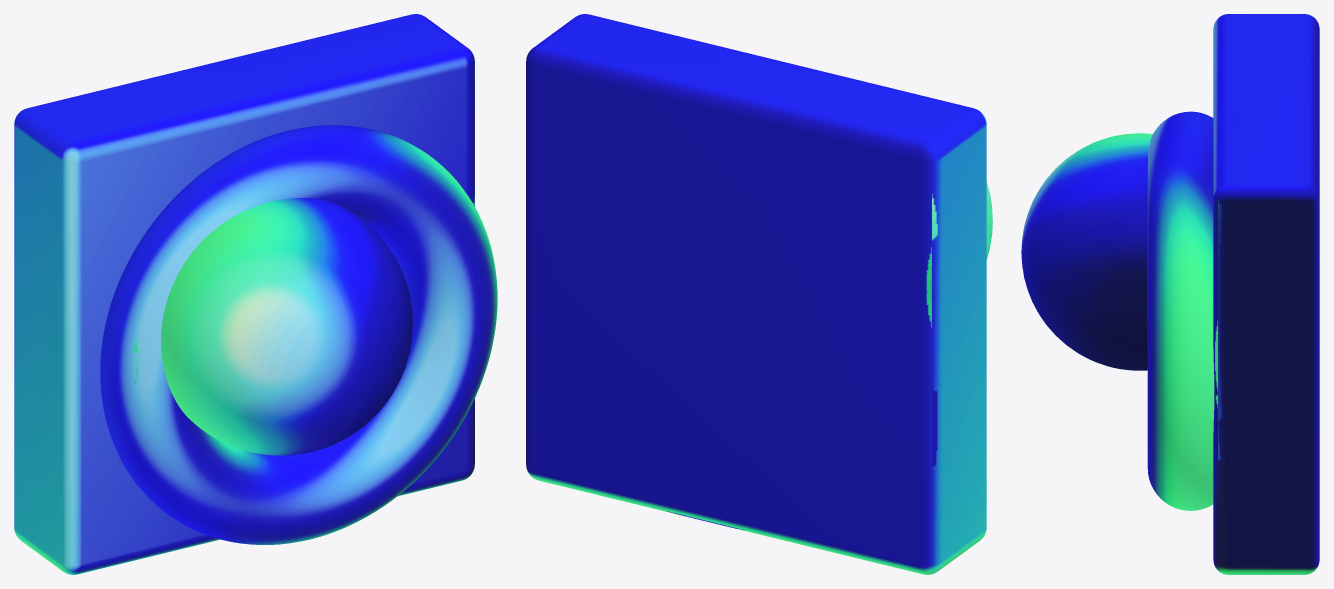
The model's file is tile.glb.
3 renders of one model, left to right at view 1: azimuth 30°, elevation 25°; view 2: azimuth 150°, elevation 25°; view 3: azimuth 270°, elevation 25°, orthographic. The views are drawn at different scales.
Parts seen in each view (by area): view 1: Cube; view 2: Cube; view 3: Cube.
Part boxes in pixels (left/top/right/bottom): Cube: left=14, top=14, right=497, bottom=574; Cube: left=526, top=14, right=992, bottom=574; Cube: left=1021, top=14, right=1319, bottom=574.
Size of the model in its own units: 1.7 by 1.7 by 1.18.
1 material, 1 textured.
